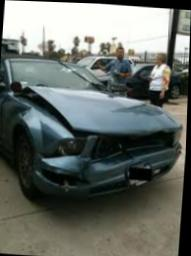Bonnet: (16, 87, 181, 129)
Bumper: (33, 142, 182, 200)
Light: (53, 133, 94, 155)
